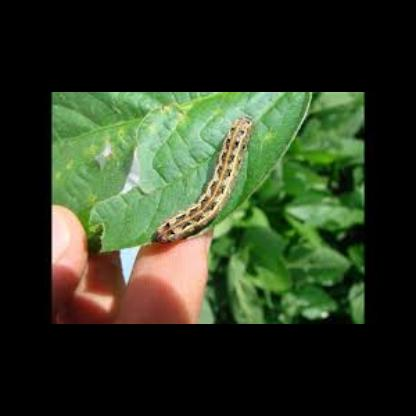oruga: (151, 113, 257, 247)
